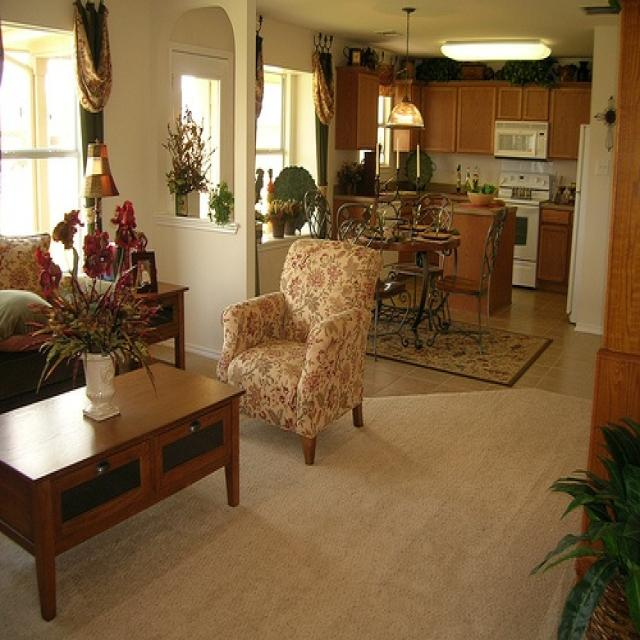chair: (219, 235, 376, 468), (426, 201, 508, 350)
diningtable: (336, 217, 459, 355)
pottedplant: (32, 198, 161, 427), (540, 412, 639, 638)
